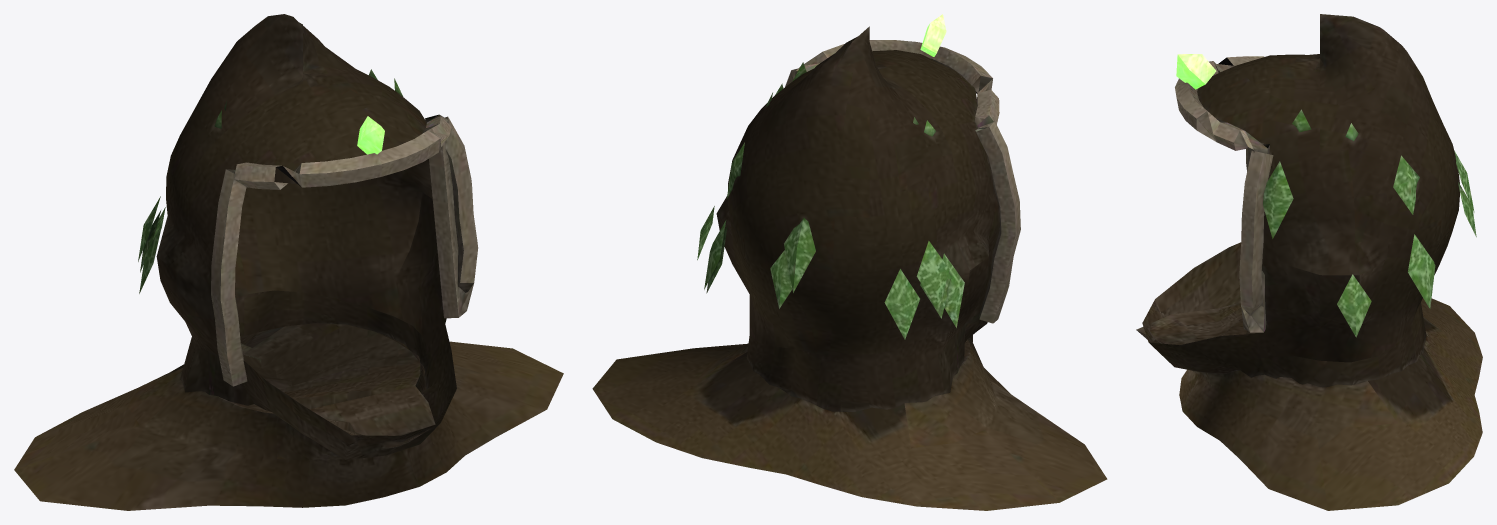
The model's file is Capuz_do_Patrulheiro_nivel75.glb.
The picture shows the model from 3 angles, left to right: view 1: azimuth 30°, elevation 25°; view 2: azimuth 150°, elevation 25°; view 3: azimuth 270°, elevation 25°; orthographic projection. The views are drawn at different scales.
Visible parts, largest first — view 1: capuz_do_patrulheiro_nivel75; view 2: capuz_do_patrulheiro_nivel75; view 3: capuz_do_patrulheiro_nivel75.
Part boxes in pixels (<box>): capuz_do_patrulheiro_nivel75: <box>14,14,563,510</box>; capuz_do_patrulheiro_nivel75: <box>592,14,1107,510</box>; capuz_do_patrulheiro_nivel75: <box>1136,14,1482,510</box>.
Bounding box in the file's own units: 0.4628 × 0.352 × 0.2919.
Materials: 1 (1 with a texture image).
